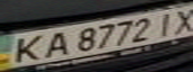2: (130, 15, 157, 44)
7: (112, 17, 139, 47), (93, 20, 118, 51)
8: (72, 25, 100, 53)
A: (36, 29, 72, 60)
I: (151, 9, 184, 38)
K: (0, 33, 51, 64)
X: (166, 5, 193, 35)
